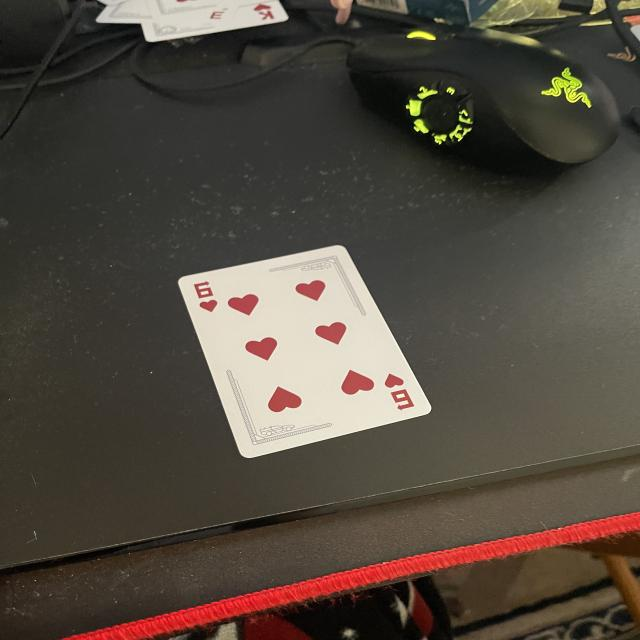6 of hearts: (176, 243, 436, 463)
